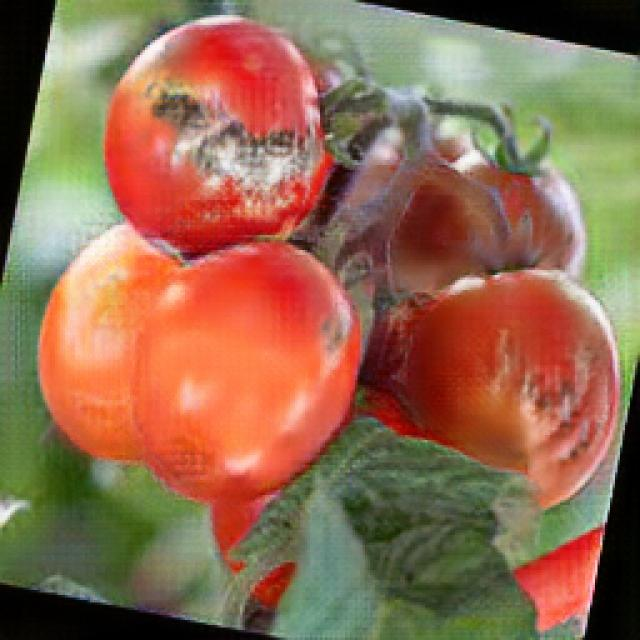overripe tomato: (134, 242, 361, 494), (108, 18, 330, 242), (415, 265, 612, 510)
